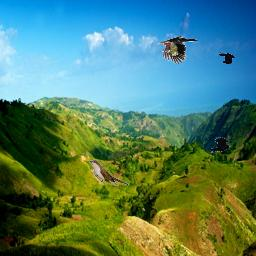Crow: (210, 137, 231, 153), (219, 52, 235, 64)
Cuckoo: (89, 160, 129, 186)
Woodpecker: (158, 36, 198, 64)
